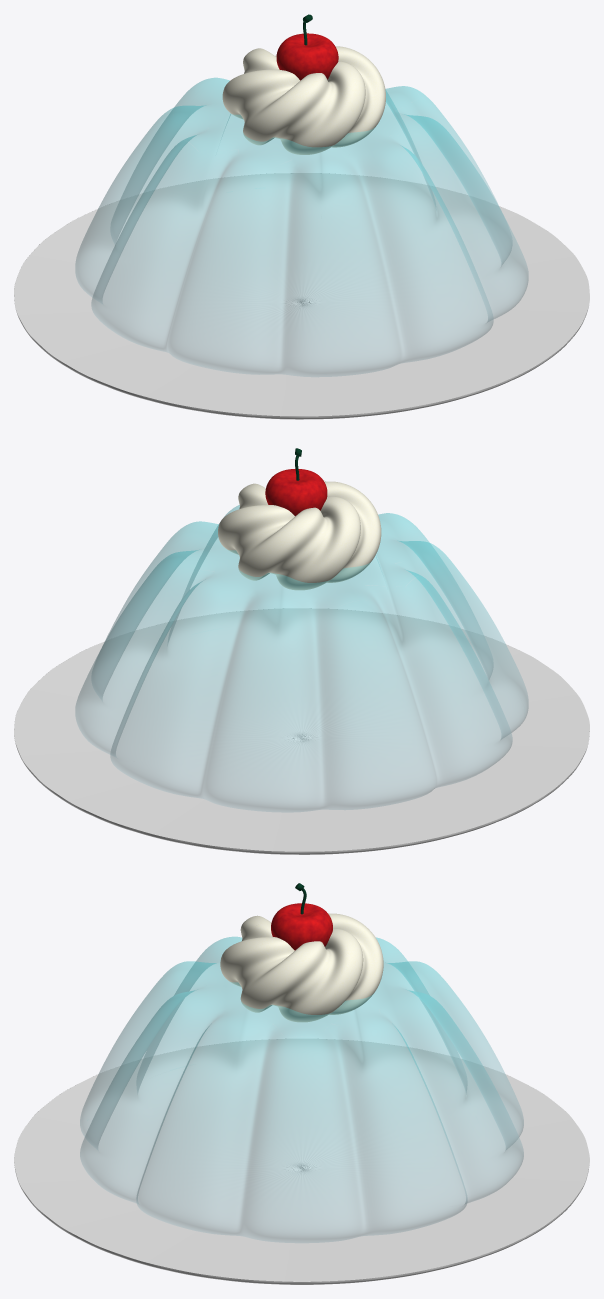
The model's file is pudding.glb.
3 views of the same model, one above another, from view 1: azimuth 30°, elevation 25°; view 2: azimuth 150°, elevation 25°; view 3: azimuth 270°, elevation 25° (orthographic).
Visible parts, largest first — view 1: 圆环, 柱体, 环体, 球体; view 2: 圆环, 柱体, 环体, 球体; view 3: 圆环, 柱体, 环体, 球体.
Part boxes in pixels (left/top/right/bottom): 圆环: left=14, top=173, right=589, bottom=419; 柱体: left=75, top=78, right=528, bottom=377; 环体: left=222, top=46, right=385, bottom=154; 球体: left=276, top=33, right=338, bottom=80; 圆环: left=14, top=608, right=589, bottom=854; 柱体: left=75, top=505, right=528, bottom=812; 环体: left=218, top=480, right=381, bottom=590; 球体: left=265, top=469, right=327, bottom=516; 圆环: left=14, top=1038, right=589, bottom=1284; 柱体: left=80, top=937, right=523, bottom=1242; 环体: left=220, top=913, right=383, bottom=1022; 球体: left=271, top=903, right=332, bottom=950.
Size of the model in its own units: 6.54 by 3.74 by 6.54.
5 materials, 3 textured.
